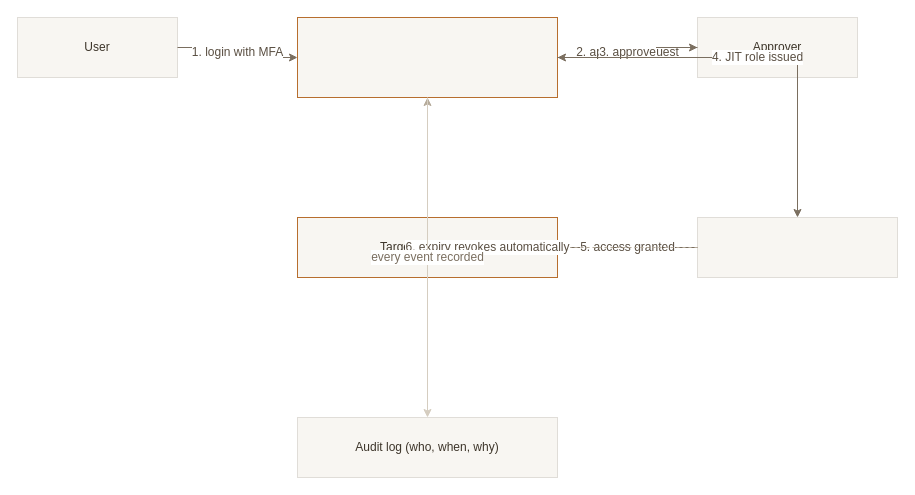
Image size: 915x495. Some labels were removed from this diagram. Here are the shapes that lost their labels. From the top down, the centre of each, then its label:
At point (427, 57): "Keycloak (MFA + authorization policy)".
At point (797, 247): "Time-boxed role (24 h)".
